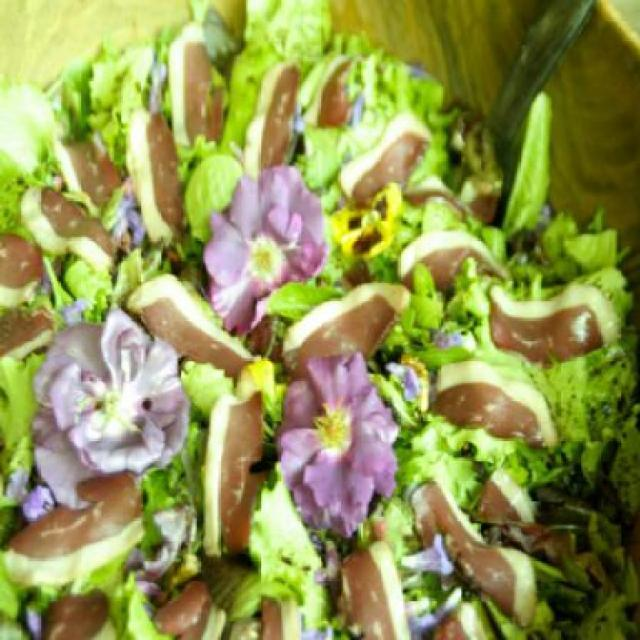Salad: (0, 0, 638, 635)
